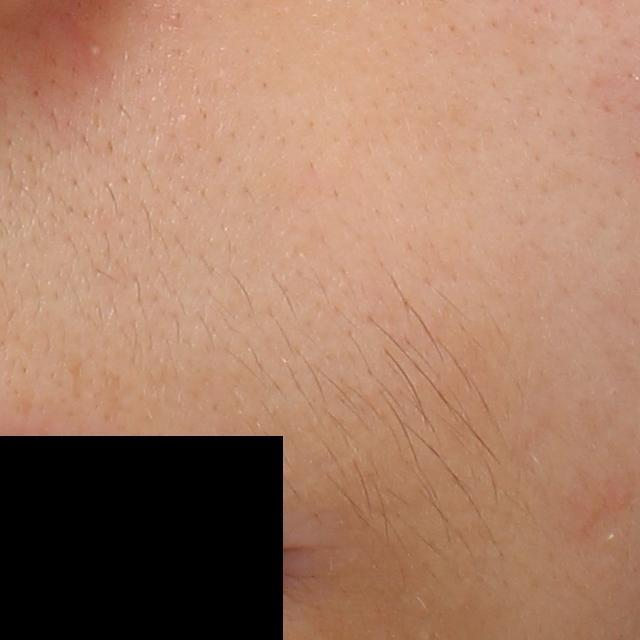pustule: (83, 41, 105, 61)
